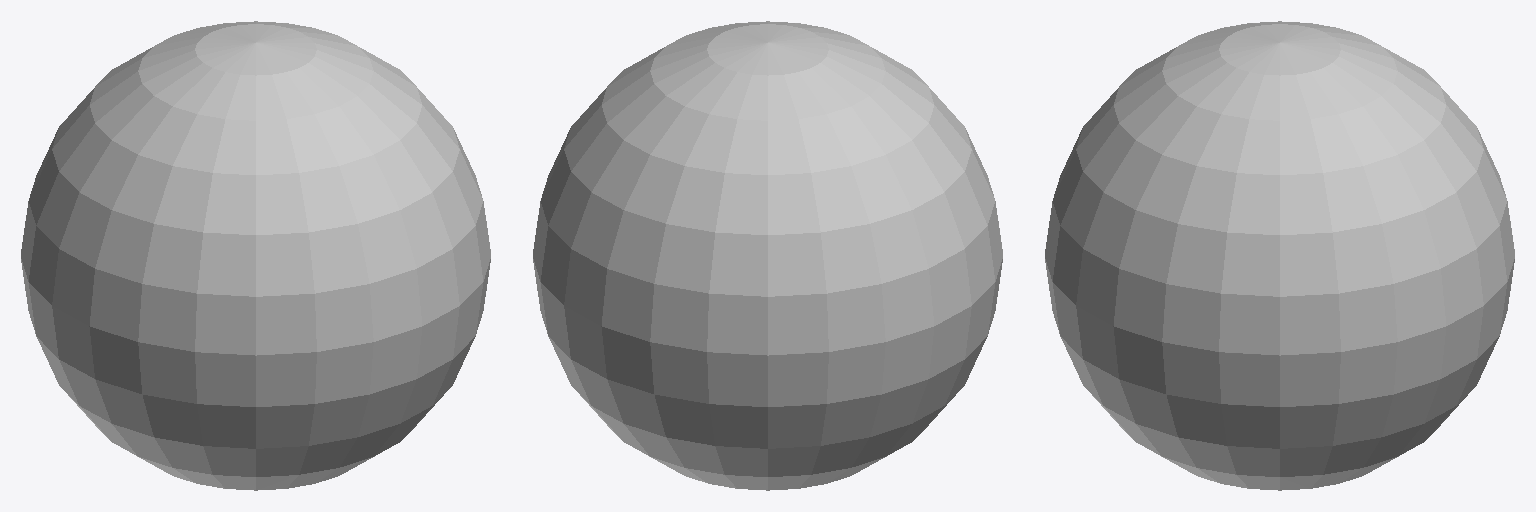
The model's file is BallColored.obj.
3 views of the same model, side by side, from view 1: azimuth 30°, elevation 25°; view 2: azimuth 150°, elevation 25°; view 3: azimuth 270°, elevation 25° (orthographic).
Parts seen in each view (by area): view 1: Ball_Sphere; view 2: Ball_Sphere; view 3: Ball_Sphere.
Part boxes in pixels (bbox=[...]): Ball_Sphere: bbox=[21, 21, 490, 490]; Ball_Sphere: bbox=[533, 21, 1002, 490]; Ball_Sphere: bbox=[1045, 21, 1514, 490].
Size of the model in its own units: 0.3258 by 0.3258 by 0.3258.